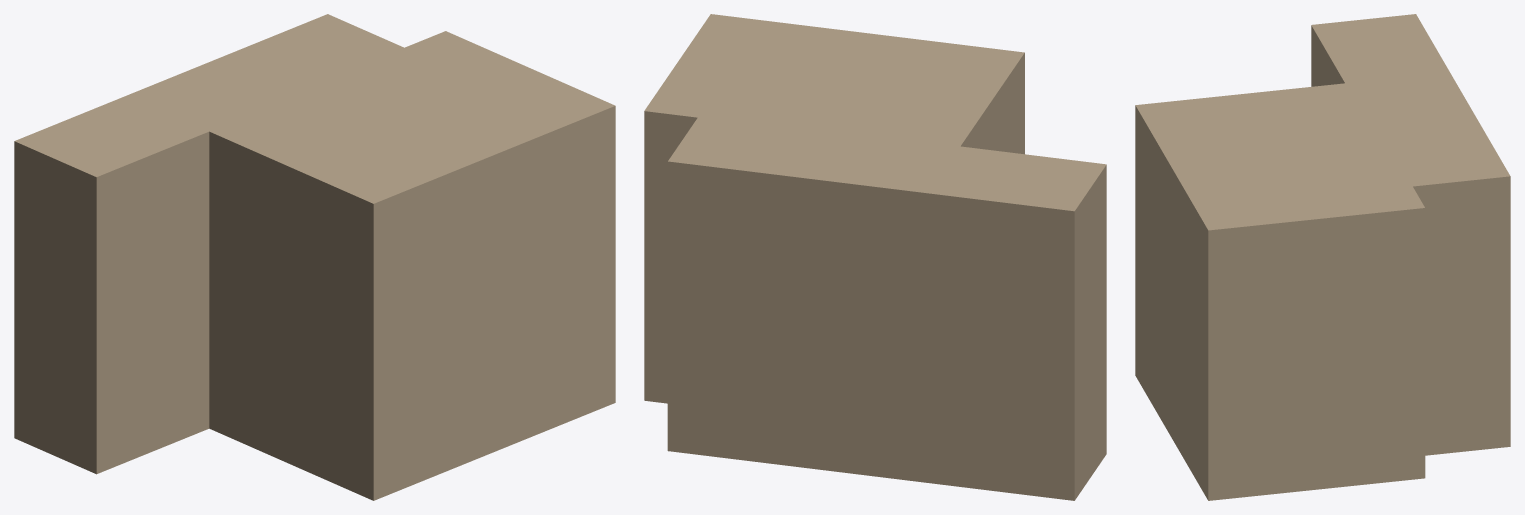
Rendered from bld_106456109.dae.
3 renders of one model, left to right at view 1: azimuth 30°, elevation 25°; view 2: azimuth 150°, elevation 25°; view 3: azimuth 270°, elevation 25°, orthographic. The views are drawn at different scales.
Parts seen in each view (by area): view 1: bld_106456109; view 2: bld_106456109; view 3: bld_106456109.
Boxes of the visible parts, x1=… form: bld_106456109: x1=14, y1=14, x2=615, y2=500; bld_106456109: x1=644, y1=14, x2=1106, y2=500; bld_106456109: x1=1135, y1=14, x2=1510, y2=500.
Size of the model in its own units: 13.73 by 10.06 by 8.
